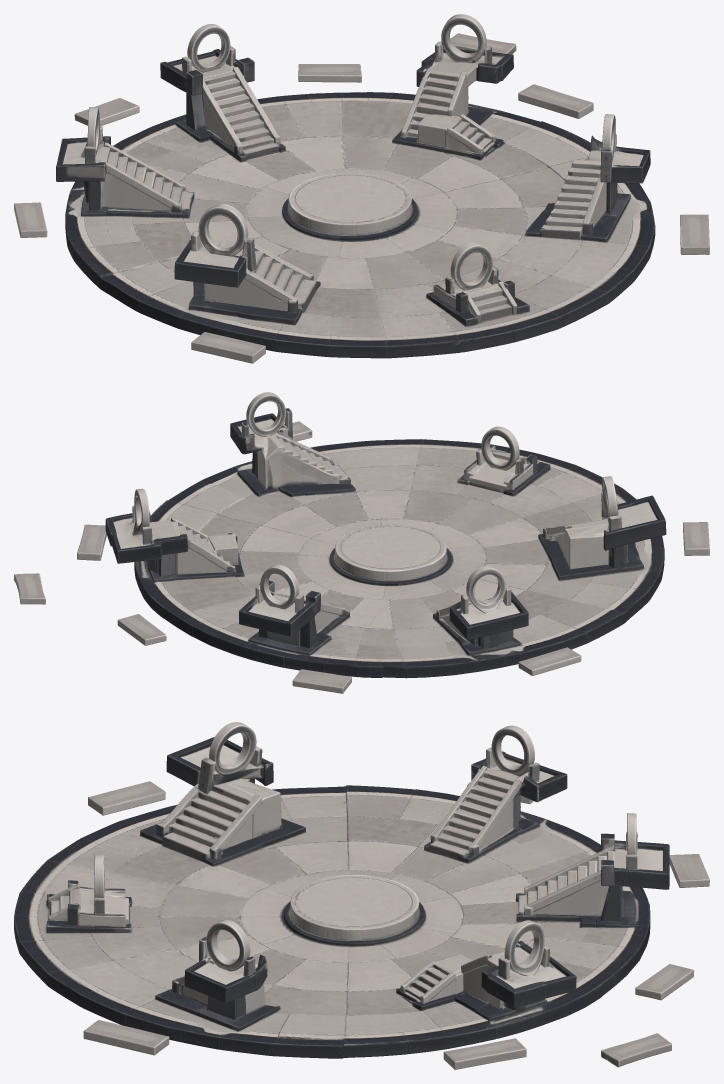
Rendered from Atrio_nivel_completo_version_detallada.glb.
The picture shows the model from 3 angles, top to bottom: view 1: azimuth 30°, elevation 25°; view 2: azimuth 150°, elevation 25°; view 3: azimuth 270°, elevation 25°; orthographic projection. The views are drawn at different scales.
Visible parts, largest first — view 1: Mesh_0; view 2: Mesh_0; view 3: Mesh_0.
Boxes of the visible parts, x1,y1,x2,y2 form: Mesh_0: [14, 14, 709, 363]; Mesh_0: [14, 392, 709, 693]; Mesh_0: [14, 722, 709, 1069].
Size of the model in its own units: 1.84 by 0.3312 by 1.88.
1 material, 1 textured.
